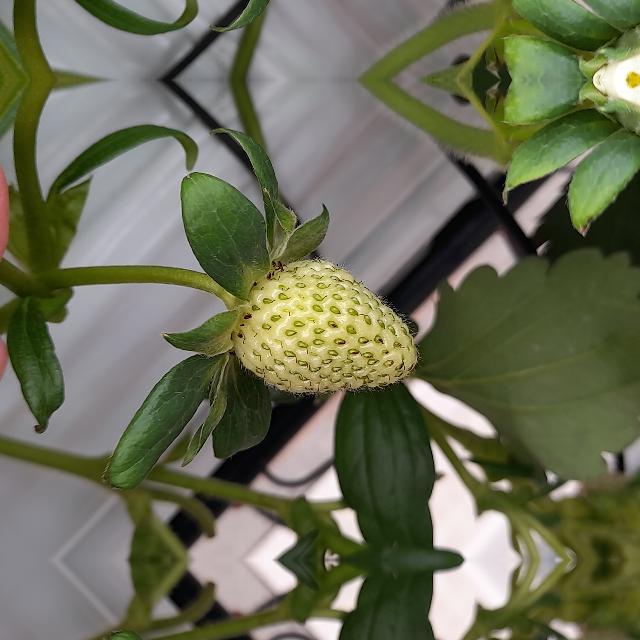Health_25: (232, 259, 416, 393)
